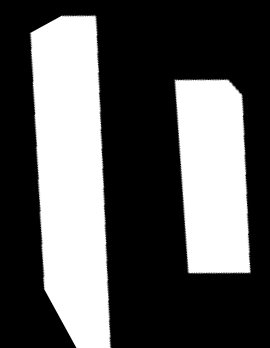parkingspot: (30, 15, 111, 348), (175, 79, 251, 274)
